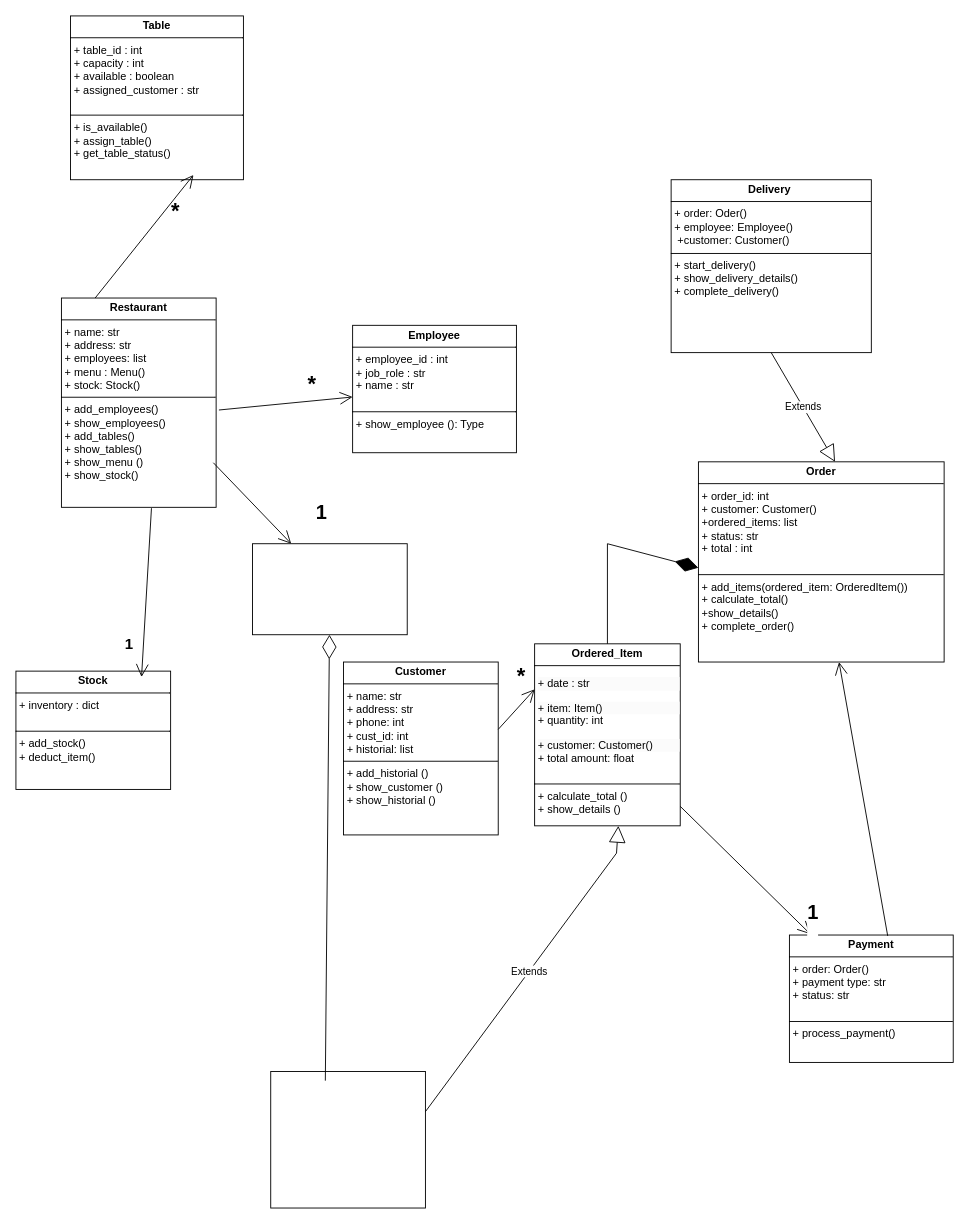
Some shapes in this 969 by 1224 pixel diagram are drawn without their labels. The shapes that lost their labels are listed below. From the top down, each one's centre as x and y in pixels, then its label:
At [329,589]: "Menu + menu_items: dict + add_menu()".
At [347,1139]: "Item + item_name: str + price: int + category: str + add_item ()".
